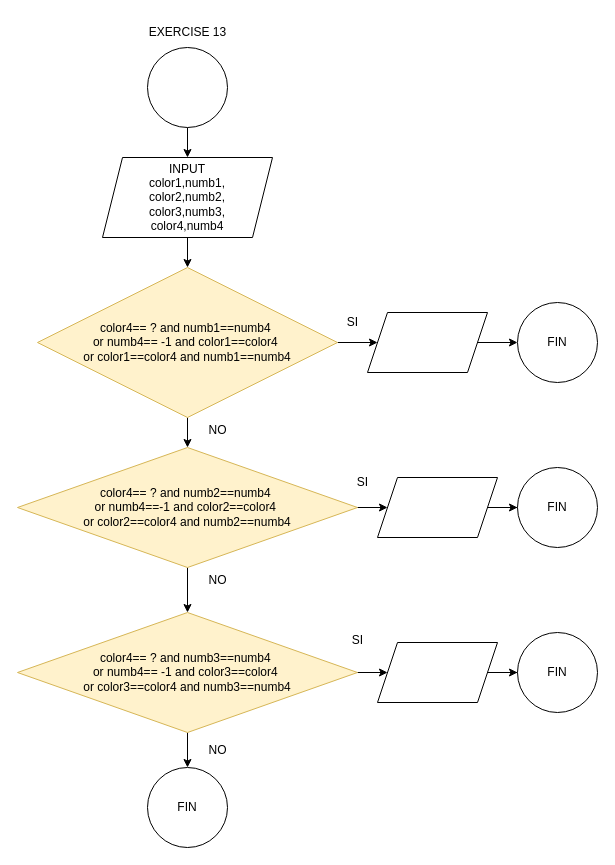
Image size: 615x865. Some labels were removed from this diagram. Here are the shapes that lost their labels. From the top down, the box of each, then its label:
(146, 46, 228, 128): INICIO
(366, 312, 488, 372): OUTPUT 1
(376, 476, 498, 538): OUTPUT 2
(376, 642, 498, 702): OUTPUT 3
